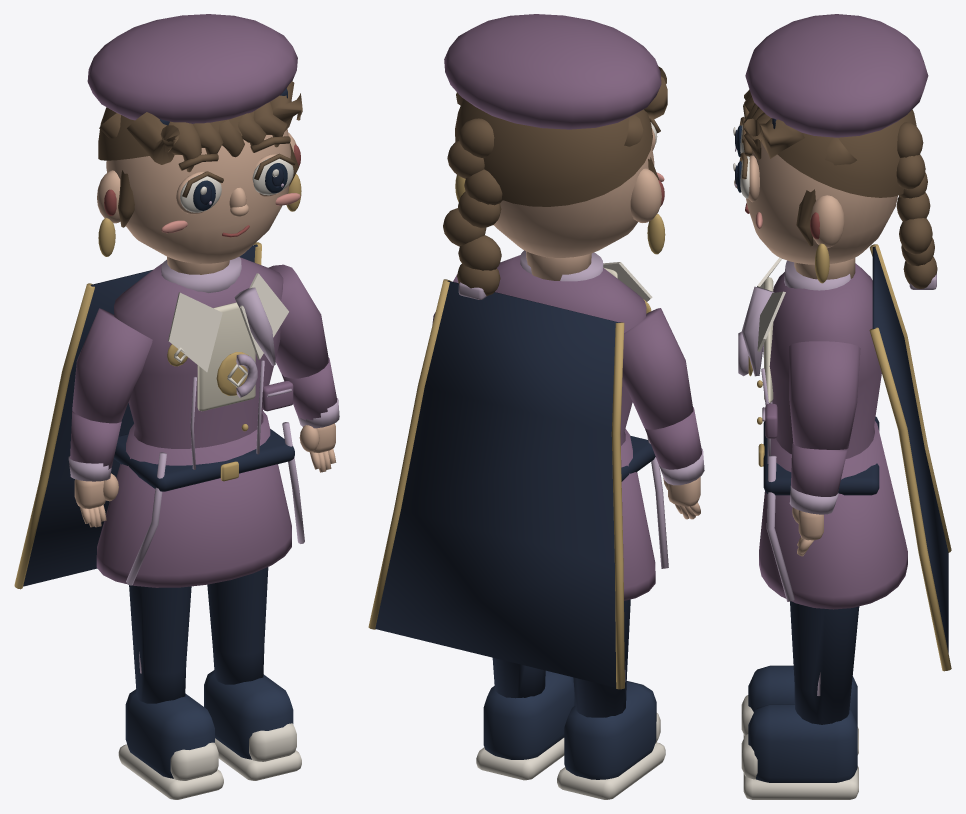
Rendered from npc_graveyard_trainer_2.glb.
The picture shows the model from 3 angles, left to right: view 1: azimuth 30°, elevation 25°; view 2: azimuth 150°, elevation 25°; view 3: azimuth 270°, elevation 25°; orthographic projection. The views are drawn at different scales.
Parts seen in each view (by area): view 1: figure.052; view 2: figure.052; view 3: figure.052.
Part boxes in pixels (box(x1,y1,x2,y2)): figure.052: box(14, 14, 339, 799); figure.052: box(368, 14, 704, 799); figure.052: box(733, 14, 951, 799).
Size of the model in its own units: 0.6015 by 1.58 by 0.4258.
